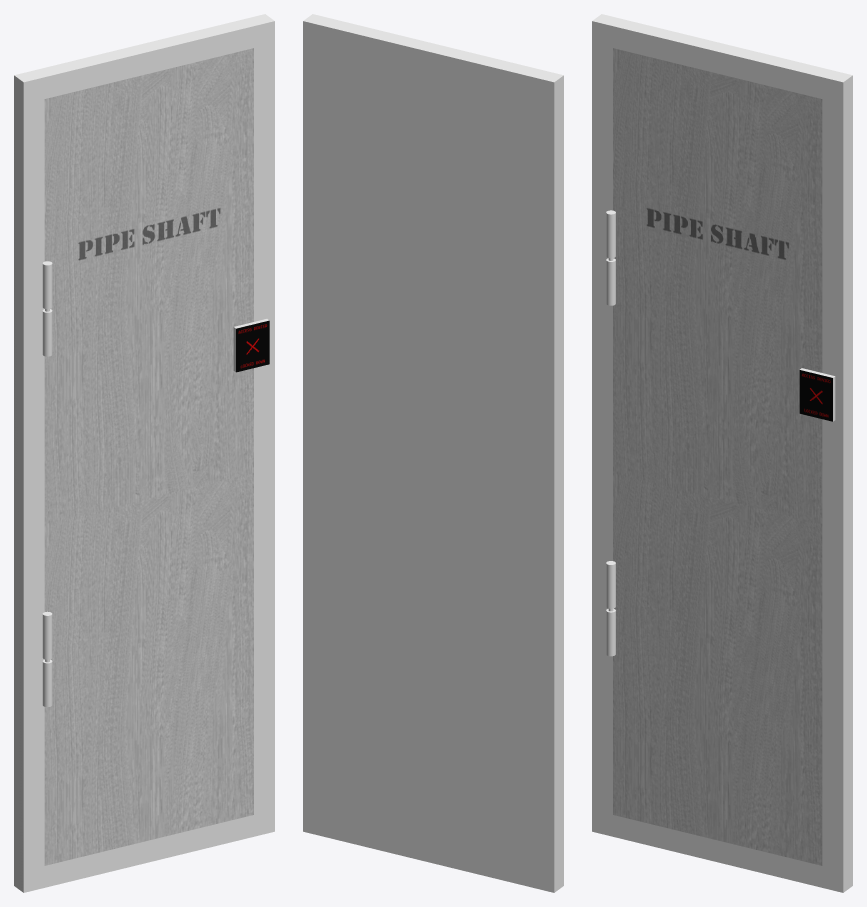
Rendered from PipeShaft.fbx.
3 renders of one model, left to right at view 1: azimuth 30°, elevation 25°; view 2: azimuth 150°, elevation 25°; view 3: azimuth 330°, elevation 25°, orthographic.
Visible parts, largest first — view 1: node_id11, node_id17, node_id14; view 2: node_id11, node_id17; view 3: node_id11, node_id17, node_id14.
Boxes of the visible parts, x1,y1,x2,y2 form: node_id11: (44,48,253,865); node_id17: (14,14,274,892); node_id14: (236,320,269,372); node_id11: (324,48,533,865); node_id17: (303,14,563,892); node_id11: (613,48,822,865); node_id17: (592,14,852,892); node_id14: (799,370,832,421).
Size of the model in its own units: 0.1661 by 0.512 by 0.0166.
Materials: 11 (2 with a texture image).
